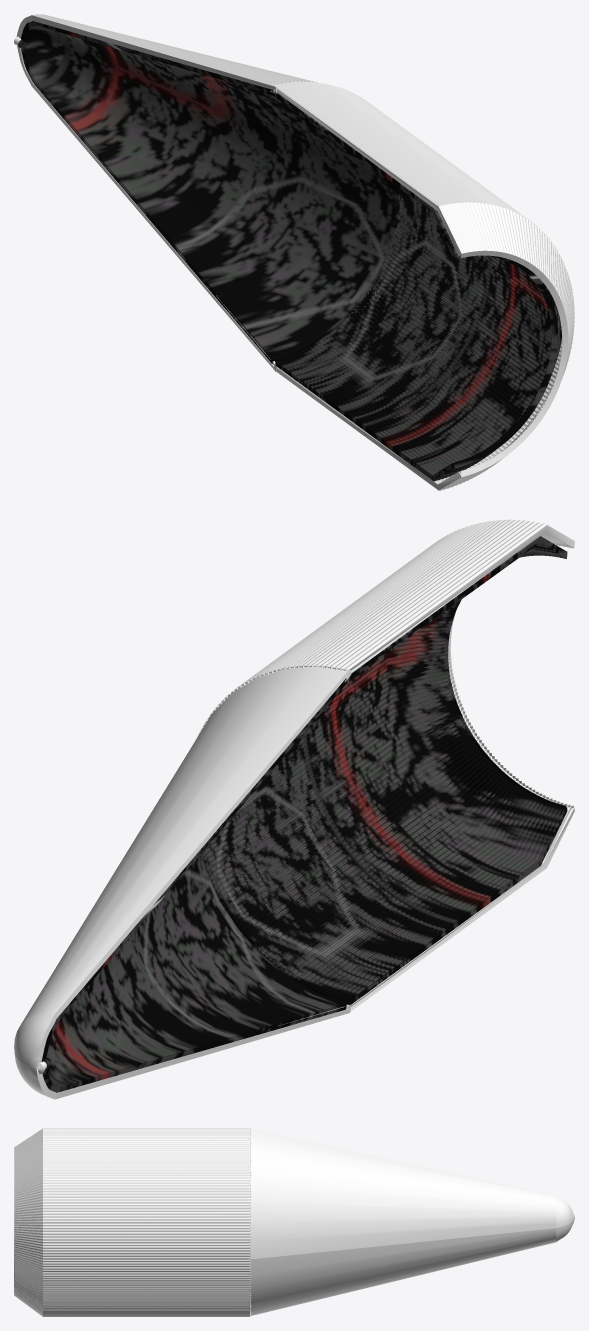
File: atlasiii_fairing1.obj
3 renders of one model, top to bottom at view 1: azimuth 30°, elevation 25°; view 2: azimuth 150°, elevation 25°; view 3: azimuth 270°, elevation 25°, orthographic. The views are drawn at different scales.
Parts seen in each view (by area): view 1: group2, group3, group1, group0; view 2: group3, group2, group0, group1; view 3: group1, group0.
Part boxes in pixels (left/top/right/bottom): group2: left=18, top=21, right=400, bottom=363; group3: left=275, top=92, right=561, bottom=481; group1: left=273, top=81, right=574, bottom=490; group0: left=14, top=14, right=375, bottom=371; group3: left=201, top=536, right=567, bottom=1004; group2: left=41, top=678, right=346, bottom=1092; group0: left=14, top=664, right=351, bottom=1099; group1: left=195, top=519, right=574, bottom=1011; group1: left=14, top=1128, right=251, bottom=1316; group0: left=248, top=1128, right=574, bottom=1315.
Bounding box in the file's own units: 1.98 × 3.85 × 10.88.
2 materials, 1 textured.
